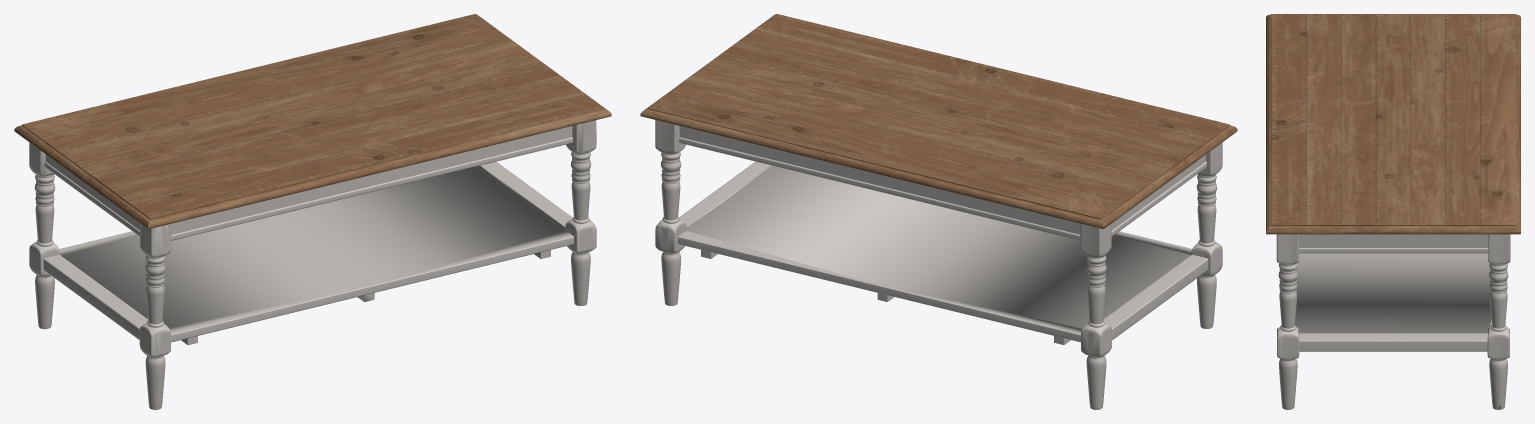
Rendered from B07DBDX5VT.glb.
The picture shows the model from 3 angles, left to right: view 1: azimuth 30°, elevation 25°; view 2: azimuth 150°, elevation 25°; view 3: azimuth 270°, elevation 25°; orthographic projection. The views are drawn at different scales.
Parts seen in each view (by area): view 1: RootNode; view 2: RootNode; view 3: RootNode.
Part boxes in pixels (bbox=[...]): RootNode: bbox=[14, 14, 611, 409]; RootNode: bbox=[640, 14, 1237, 409]; RootNode: bbox=[1266, 14, 1520, 409].
Bounding box in the file's own units: 1.12 × 0.4583 × 0.5587.
1 material, 1 textured.
